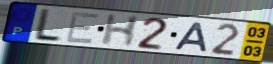2: (136, 17, 171, 52), (210, 22, 242, 57)
A: (173, 21, 210, 54)
E: (64, 11, 102, 46)
H: (99, 14, 143, 48)
L: (30, 7, 64, 43)
